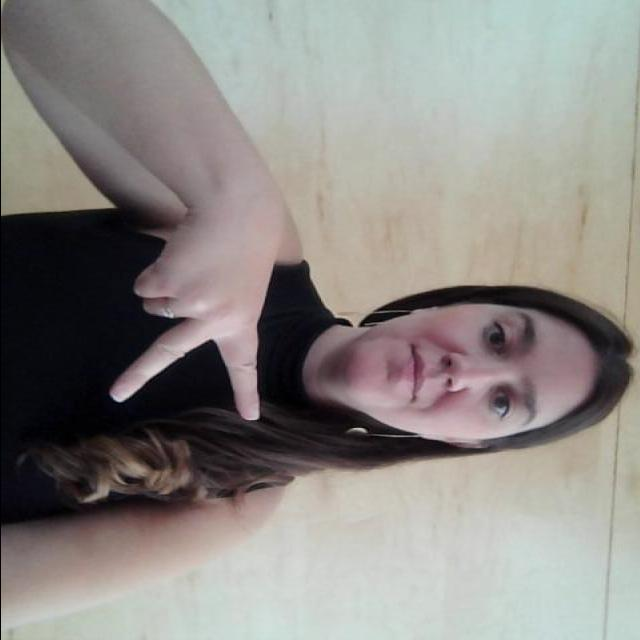Scissors: (94, 179, 284, 436)
